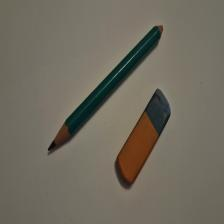eraser: (117, 89, 172, 185)
pencil: (49, 25, 164, 152)
